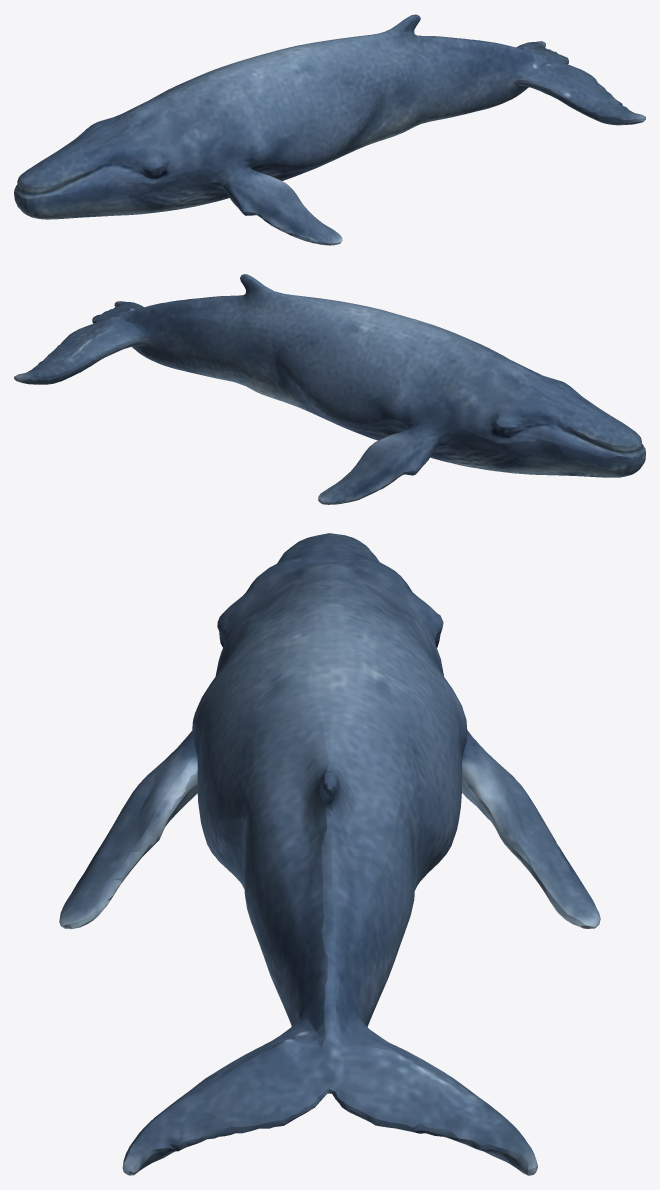
3 renders of one model, top to bottom at view 1: azimuth 30°, elevation 25°; view 2: azimuth 150°, elevation 25°; view 3: azimuth 270°, elevation 25°, orthographic. The views are drawn at different scales.
Parts seen in each view (by area): view 1: geometry_0; view 2: geometry_0; view 3: geometry_0.
Boxes of the visible parts, box(x1,y1,x2,y2) form: geometry_0: box(14, 14, 645, 245); geometry_0: box(14, 274, 645, 504); geometry_0: box(59, 533, 600, 1175).
Size of the model in its own units: 25 by 6.04 by 10.15.
1 material, 1 textured.
